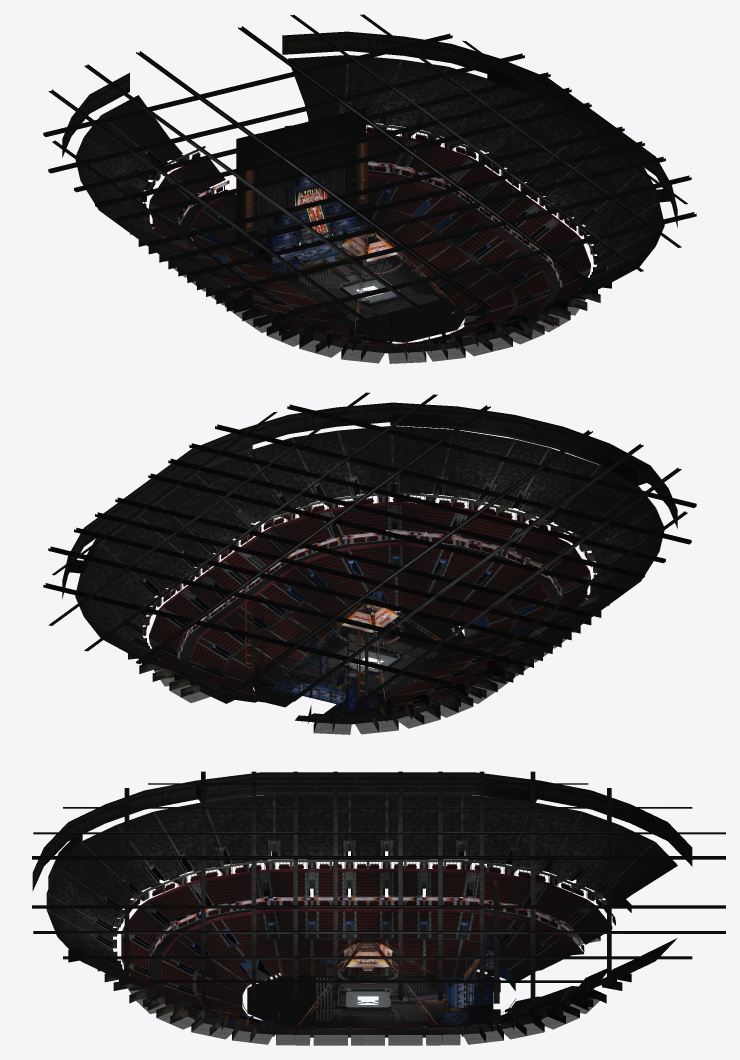
The model's file is wrestlemania26_arena.glb.
3 views of the same model, one above another, from view 1: azimuth 30°, elevation 25°; view 2: azimuth 150°, elevation 25°; view 3: azimuth 270°, elevation 25° (orthographic).
Visible parts, largest first — view 1: Stands, MoveCamOnly_Stands, Stage, Floor, Titantron, RingsideSeats, MoveCamOnly_Stage; view 2: Stands, MoveCamOnly_Stands, Floor, Stage, RingsideSeats, MoveCamOnly_Stage, Titantron; view 3: Stands, MoveCamOnly_Stands, Floor, Stage, MoveCamOnly_Stage, RingsideSeats, Titantron, Ramp, FloorMats, Barricade.
Boxes of the visible parts, <box> form: Stands: <box>62,31,677,363</box>; MoveCamOnly_Stands: <box>43,14,696,323</box>; Stage: <box>236,107,460,337</box>; Floor: <box>262,235,465,342</box>; Titantron: <box>259,175,368,264</box>; RingsideSeats: <box>299,258,438,321</box>; MoveCamOnly_Stage: <box>288,224,455,329</box>; Stands: <box>62,402,677,734</box>; MoveCamOnly_Stands: <box>43,392,696,701</box>; Floor: <box>258,612,465,715</box>; Stage: <box>245,602,460,713</box>; RingsideSeats: <box>300,630,438,693</box>; MoveCamOnly_Stage: <box>284,593,452,700</box>; Titantron: <box>291,640,368,714</box>; Stands: <box>32,772,692,1045</box>; MoveCamOnly_Stands: <box>32,771,725,1000</box>; Floor: <box>247,971,500,1027</box>; Stage: <box>268,880,500,1022</box>; MoveCamOnly_Stage: <box>298,923,490,1024</box>; RingsideSeats: <box>316,977,428,1021</box>; Titantron: <box>454,936,500,1021</box>; Ramp: <box>397,983,479,1007</box>; FloorMats: <box>346,991,389,1006</box>; Barricade: <box>337,988,398,1010</box>.
Bounding box in the file's own units: 189 × 53.58 × 226.
77 materials, 76 textured.
